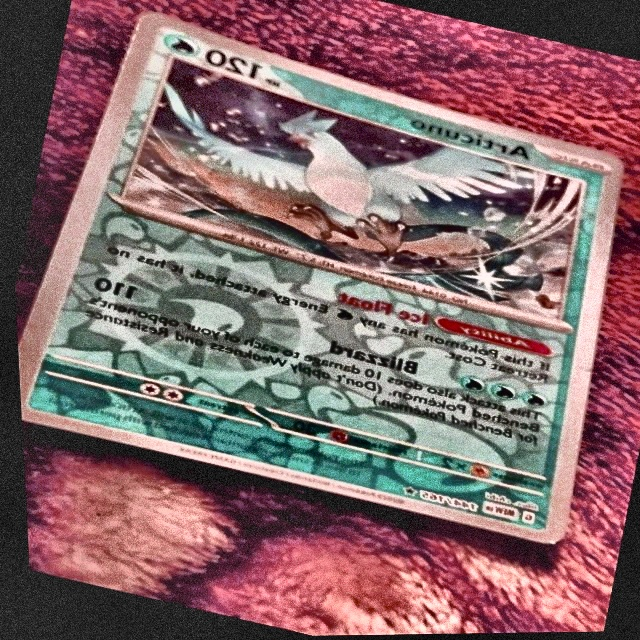card: (14, 10, 622, 544)
